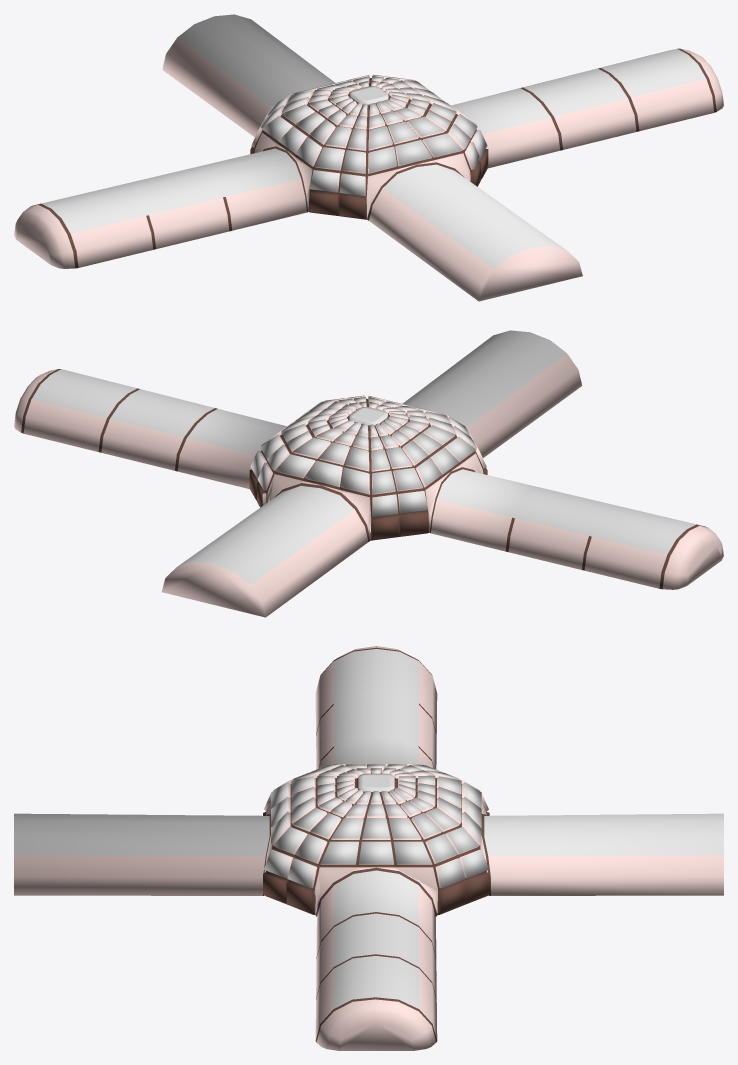
The model's file is mall roof-v3.fbx.
The picture shows the model from 3 angles, top to bottom: view 1: azimuth 30°, elevation 25°; view 2: azimuth 150°, elevation 25°; view 3: azimuth 270°, elevation 25°; orthographic projection. The views are drawn at different scales.
Parts seen in each view (by area): view 1: roof; view 2: roof; view 3: roof.
Boxes of the visible parts, x1,y1,x2,y2 form: roof: (14, 14, 723, 301); roof: (14, 330, 723, 617); roof: (14, 646, 723, 1050).
Size of the model in its own units: 2766 by 306 by 2259.
